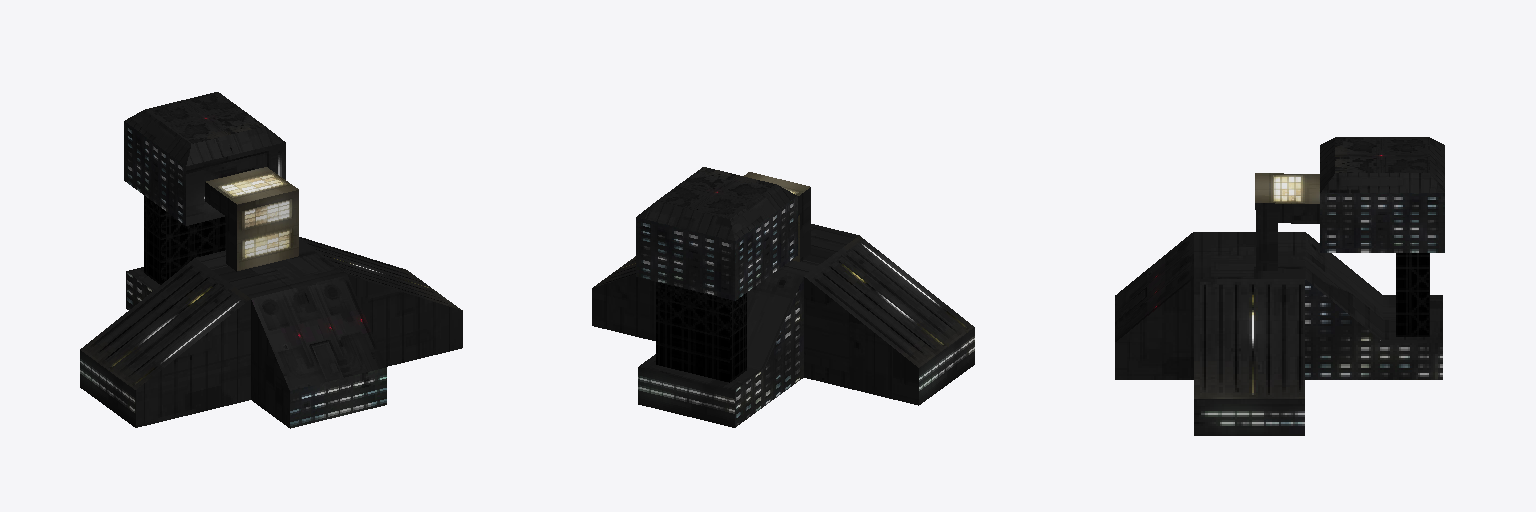
The picture shows the model from 3 angles: view 1: azimuth 30°, elevation 25°; view 2: azimuth 150°, elevation 25°; view 3: azimuth 270°, elevation 25°; orthographic projection.
Visible parts, largest first — view 1: building_41; view 2: building_41; view 3: building_41.
Boxes of the visible parts, x1,y1,x2,y2 form: building_41: [80, 92, 462, 428]; building_41: [592, 167, 974, 427]; building_41: [1115, 137, 1444, 435].
Size of the model in its own units: 118 by 69.61 by 103.
1 materials, 1 textured.